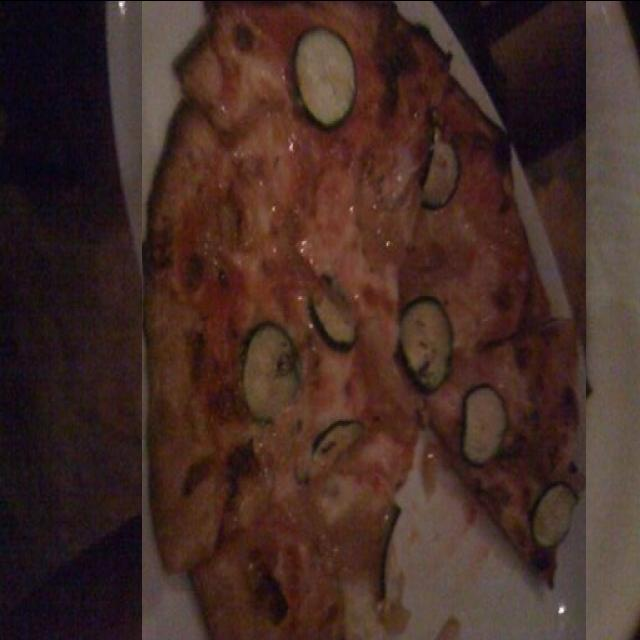pizza: (142, 0, 586, 640)
